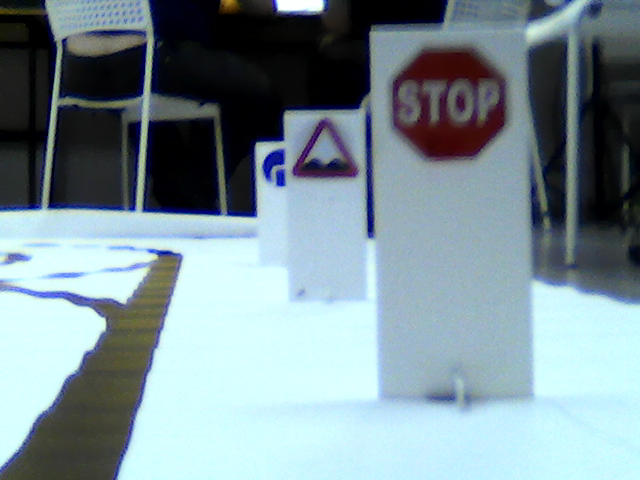Nerov: (293, 119, 363, 181)
Stop: (388, 43, 505, 165)
